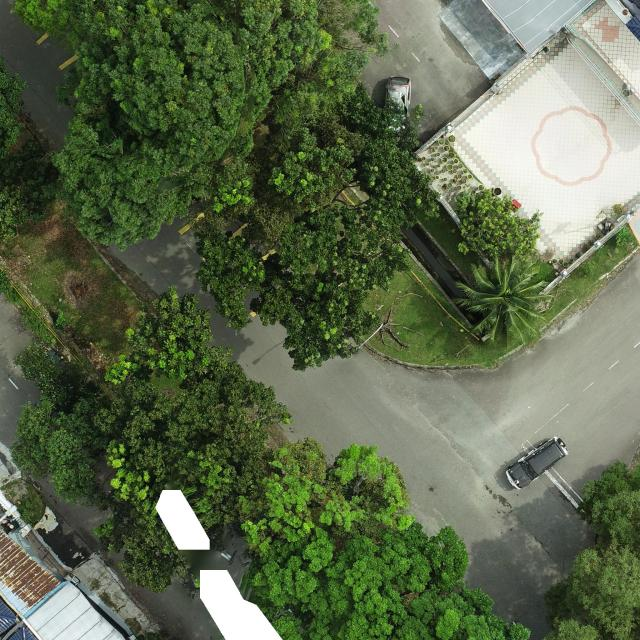Tree: (193, 81, 443, 371), (11, 345, 292, 593), (49, 0, 250, 254), (247, 521, 532, 640), (230, 436, 417, 553), (236, 0, 390, 124), (102, 284, 236, 386), (452, 254, 555, 350), (0, 136, 61, 244), (454, 188, 542, 258)
